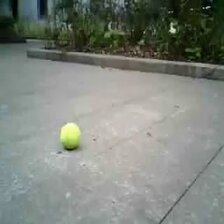tennis: (60, 123, 79, 150)
